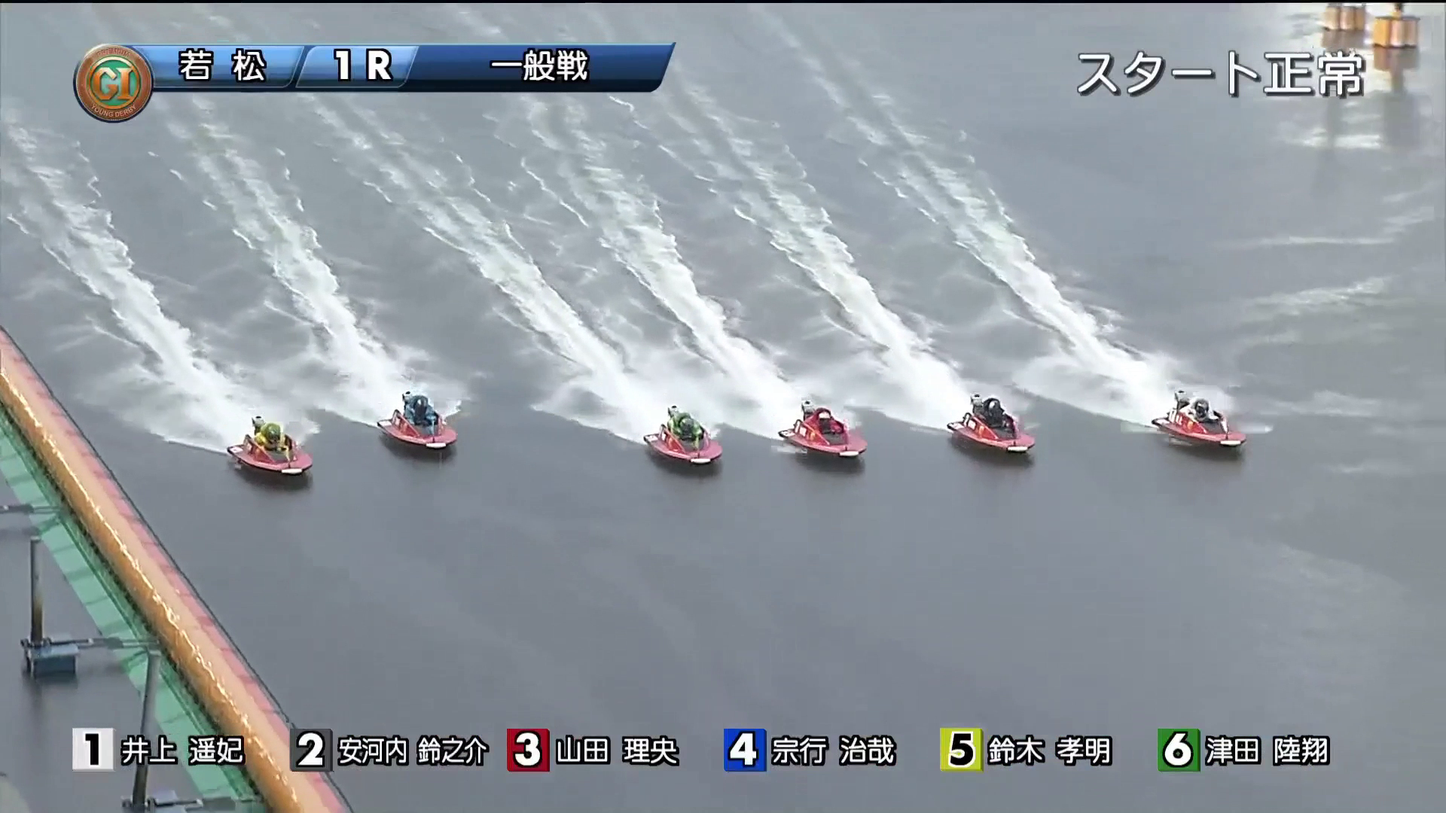１号艇: (1169, 401, 1254, 443)
２号艇: (960, 409, 1050, 447)
３号艇: (791, 425, 883, 467)
４号艇: (634, 414, 739, 458)
５号艇: (351, 385, 471, 440)
６号艇: (235, 421, 334, 478)
